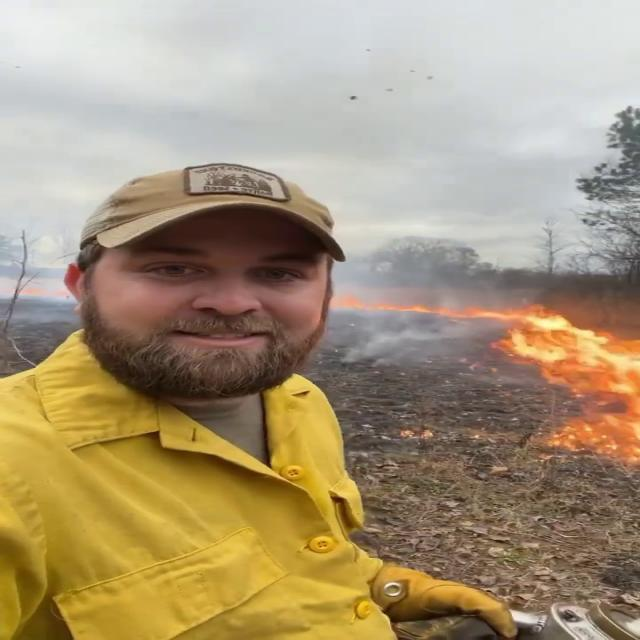Fire: (480, 300, 640, 464)
